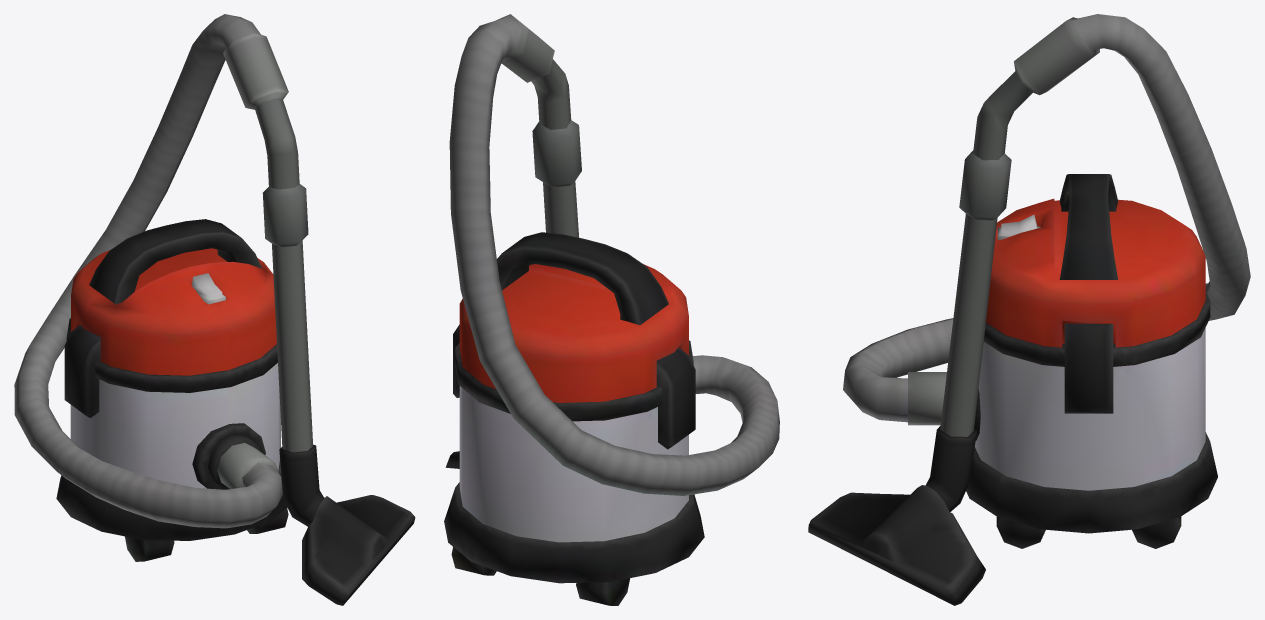
3 views of the same model, side by side, from view 1: azimuth 30°, elevation 25°; view 2: azimuth 150°, elevation 25°; view 3: azimuth 270°, elevation 25° (orthographic). The views are drawn at different scales.
Bounding box in the file's own units: 8.86 × 12.76 × 9.6.
Materials: 1 (1 with a texture image).
